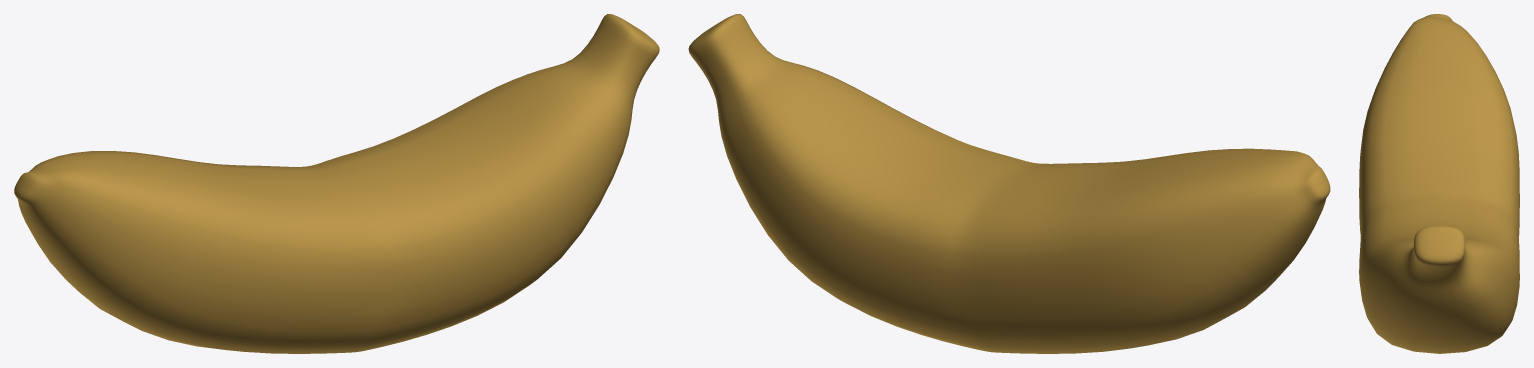
The model's file is Banana.fbx.
3 renders of one model, left to right at view 1: azimuth 30°, elevation 25°; view 2: azimuth 150°, elevation 25°; view 3: azimuth 270°, elevation 25°, orthographic. The views are drawn at different scales.
Parts seen in each view (by area): view 1: Cube; view 2: Cube; view 3: Cube.
Part boxes in pixels (left/top/right/bottom): Cube: left=14, top=14, right=659, bottom=353; Cube: left=688, top=14, right=1330, bottom=353; Cube: left=1359, top=14, right=1519, bottom=353.
Size of the model in its own units: 855 by 322 by 244.
